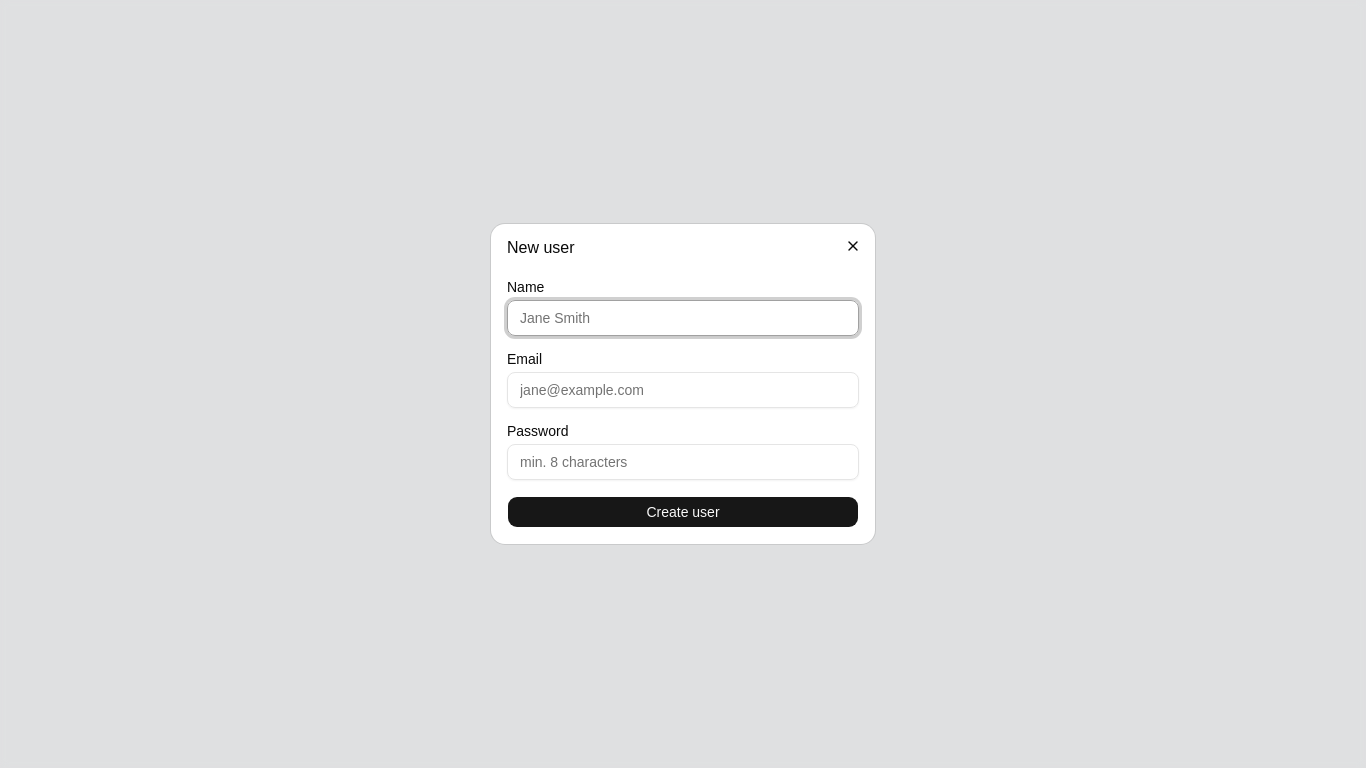
UserDialog — create mode › validation › shows all field errors when submitted empty
Click the button "Create user" at (683,512), box [507,496,859,528]
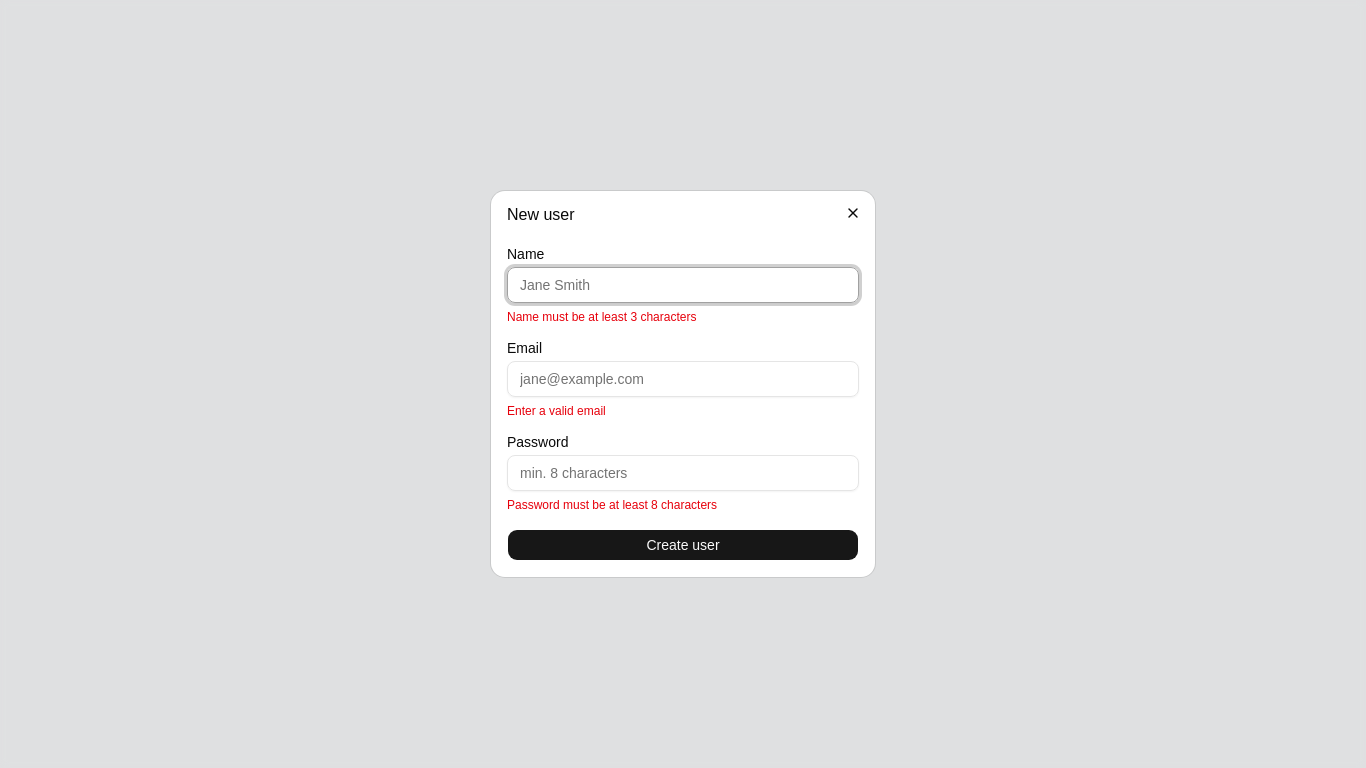
Expected: the text "Name must be at least 3 characters" is shown, [507,310,696,324]
Expected: the text "Enter a valid email" is shown, [507,404,606,418]
Expected: the text "Password must be at least 8 characters" is shown, [507,498,717,512]
